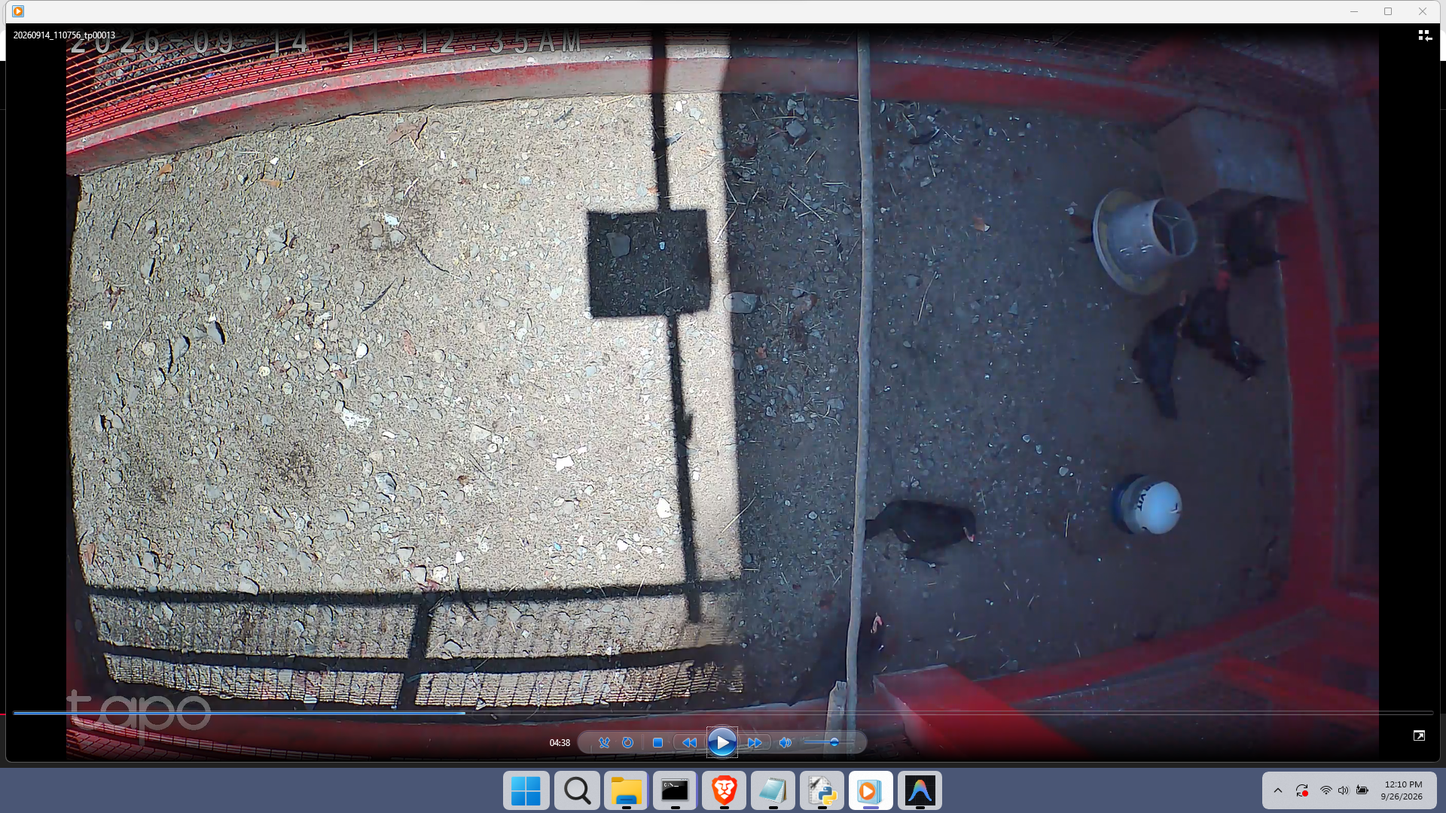Chicken: (785, 607, 885, 709), (1126, 284, 1191, 428), (863, 499, 985, 575), (1205, 209, 1287, 283)
Drinker: (1111, 471, 1188, 540)
Feeder: (1092, 186, 1199, 296)
Rooster: (1184, 271, 1267, 381)
